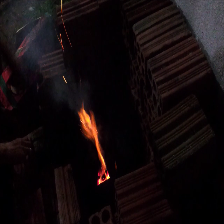fire_h: (78, 102, 111, 187), (60, 1, 71, 46)
fire_l: (59, 33, 65, 50), (63, 75, 68, 83)
